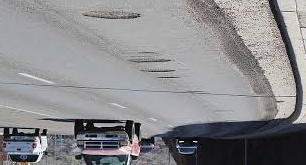pothole: (81, 9, 142, 21), (125, 55, 171, 62), (138, 68, 180, 72), (157, 76, 181, 80)
